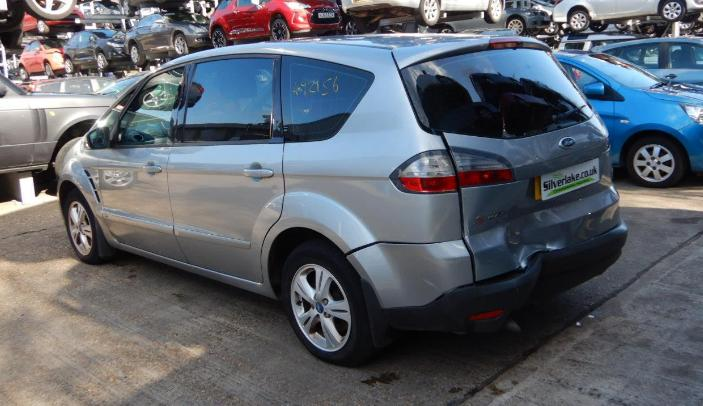Back-bumper: (347, 225, 627, 332)
Back-door: (167, 53, 285, 283)
Back-wheel: (280, 237, 387, 367)
Back-window: (280, 55, 374, 143), (182, 59, 274, 141)
Back-windshield: (399, 47, 594, 139)
Fender: (58, 137, 114, 239)
Front-door: (98, 61, 191, 263)
Front-wheel: (64, 188, 114, 264)
Front-window: (117, 66, 183, 145), (94, 89, 135, 131)
License-plate: (541, 158, 599, 200)
Mirror: (87, 126, 113, 149)
Quarter-panel: (260, 69, 461, 284)
Rocker-panel: (106, 238, 277, 299)
Roof: (147, 33, 539, 75)
Tail-light: (390, 149, 456, 193), (451, 148, 513, 187)
Trunk: (443, 113, 620, 281), (391, 38, 551, 70)
